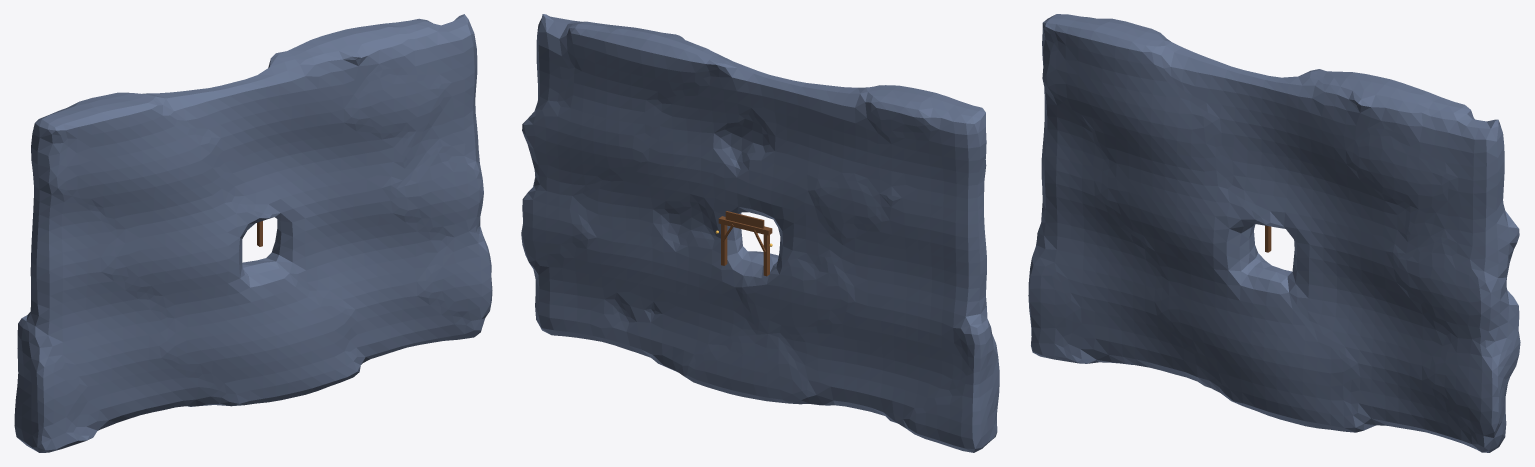
The model's file is MinecartMayhemPortal.obj.
3 views of the same model, side by side, from view 1: azimuth 30°, elevation 25°; view 2: azimuth 150°, elevation 25°; view 3: azimuth 330°, elevation 25° (orthographic). The views are drawn at different scales.
Visible parts, largest first — view 1: Rock; view 2: Rock, Timber; view 3: Rock.
Part boxes in pixels (x1,y1,x2,y2): Rock: (14, 14, 492, 452); Rock: (521, 14, 999, 452); Timber: (718, 211, 772, 276); Rock: (1028, 14, 1520, 452).
Bounding box in the file's own units: 158 × 111 × 20.56.
